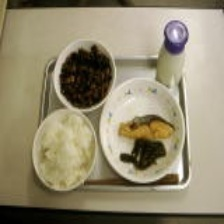rice: (33, 112, 96, 192)
